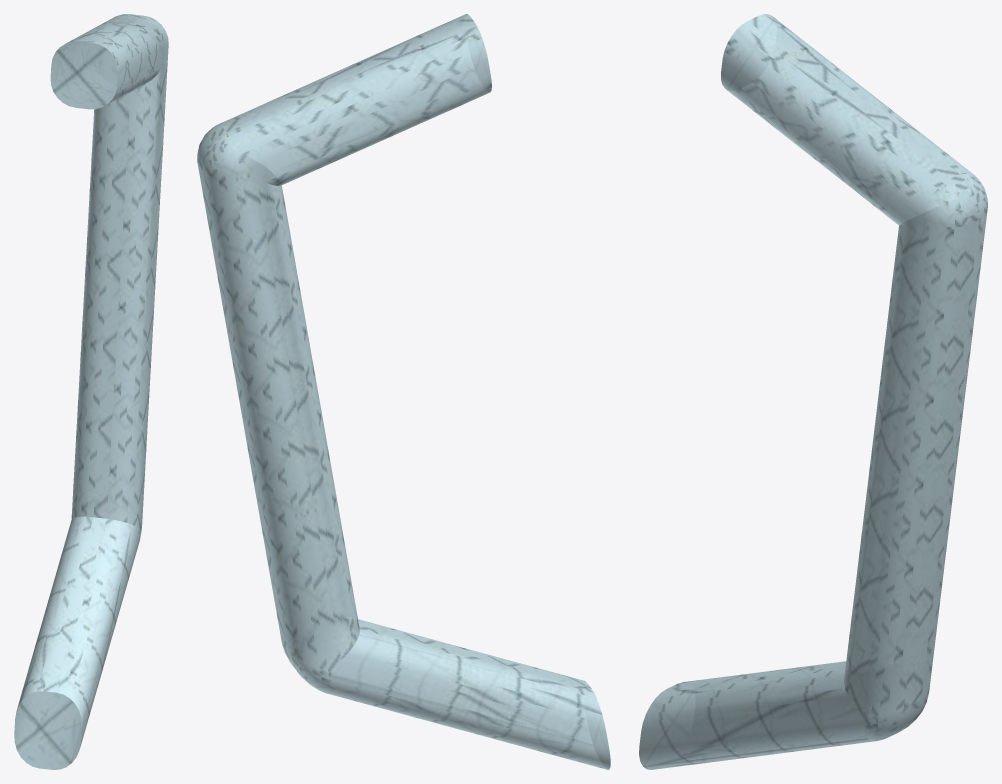
Rendered from original-22.obj.
3 renders of one model, left to right at view 1: azimuth 30°, elevation 25°; view 2: azimuth 150°, elevation 25°; view 3: azimuth 270°, elevation 25°, orthographic. The views are drawn at different scales.
Parts seen in each view (by area): view 1: Group9/mesh19/mesh19-geometry#mesh19-geometry; view 2: Group9/mesh19/mesh19-geometry#mesh19-geometry; view 3: Group9/mesh19/mesh19-geometry#mesh19-geometry.
Part boxes in pixels (x1,y1,x2,y2): Group9/mesh19/mesh19-geometry#mesh19-geometry: (14,14,168,769); Group9/mesh19/mesh19-geometry#mesh19-geometry: (197,14,610,769); Group9/mesh19/mesh19-geometry#mesh19-geometry: (639,14,987,769).
Bounding box in the file's own units: 0.2052 × 0.5148 × 0.2054.
Materials: 1 (1 with a texture image).
